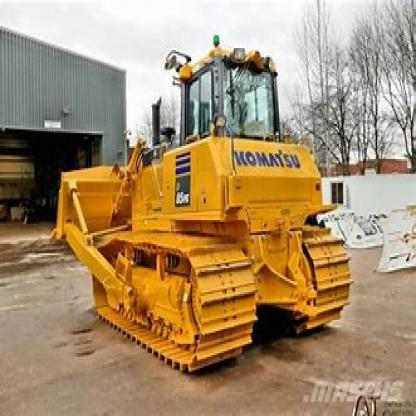bull_dozer/loader/grader: (43, 38, 358, 372)
